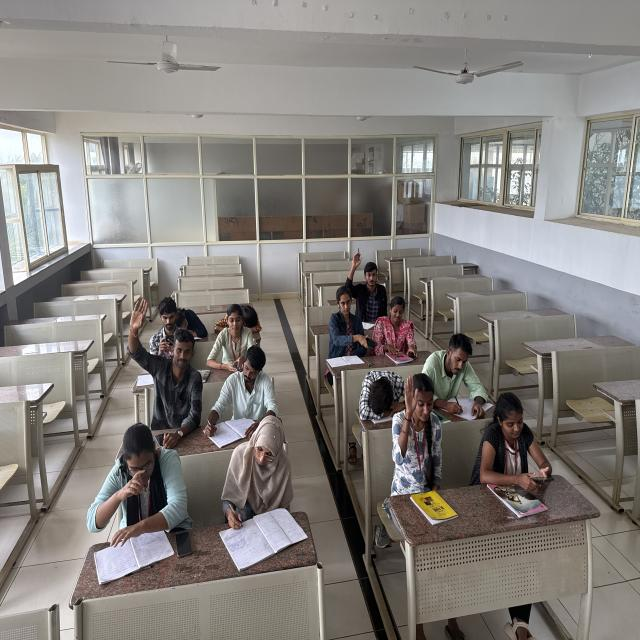Hand Rising: (104, 290, 198, 437), (391, 367, 452, 501), (340, 238, 393, 318)
Sleeping: (207, 259, 272, 345), (346, 357, 409, 425), (167, 260, 214, 340)
Using Phone: (483, 386, 566, 498), (202, 294, 252, 382), (151, 274, 194, 359), (326, 286, 378, 353)
Writing: (217, 414, 324, 564), (425, 302, 525, 438), (200, 362, 283, 447)
